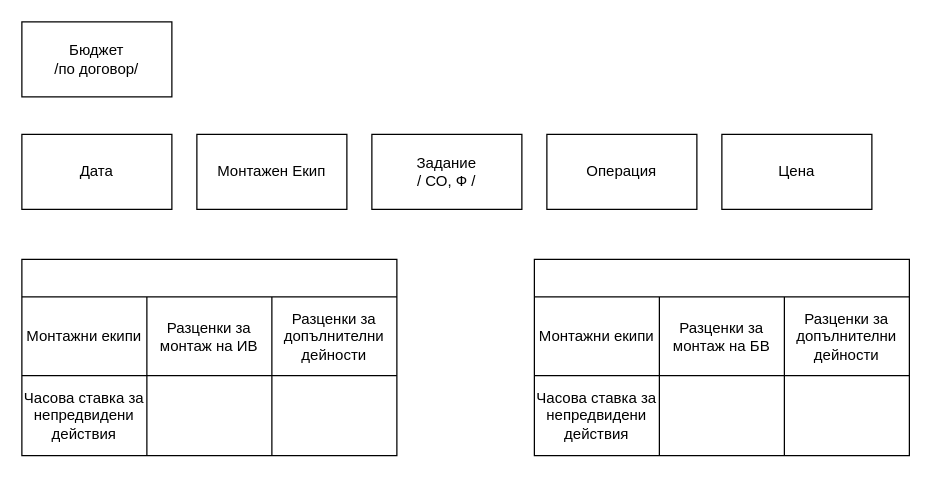
The diagram is 931 pixels wide and 478 high, and some of its shapes have lost their labels. The shapes that lost their labels are listed below. From the top down, each one's box as (x1, y1, x2, y2) in pixels, then its label:
(21, 258, 397, 456): Данни за таблица монтажи ИВ
(533, 258, 909, 456): Данни за таблица монтажи БВ
